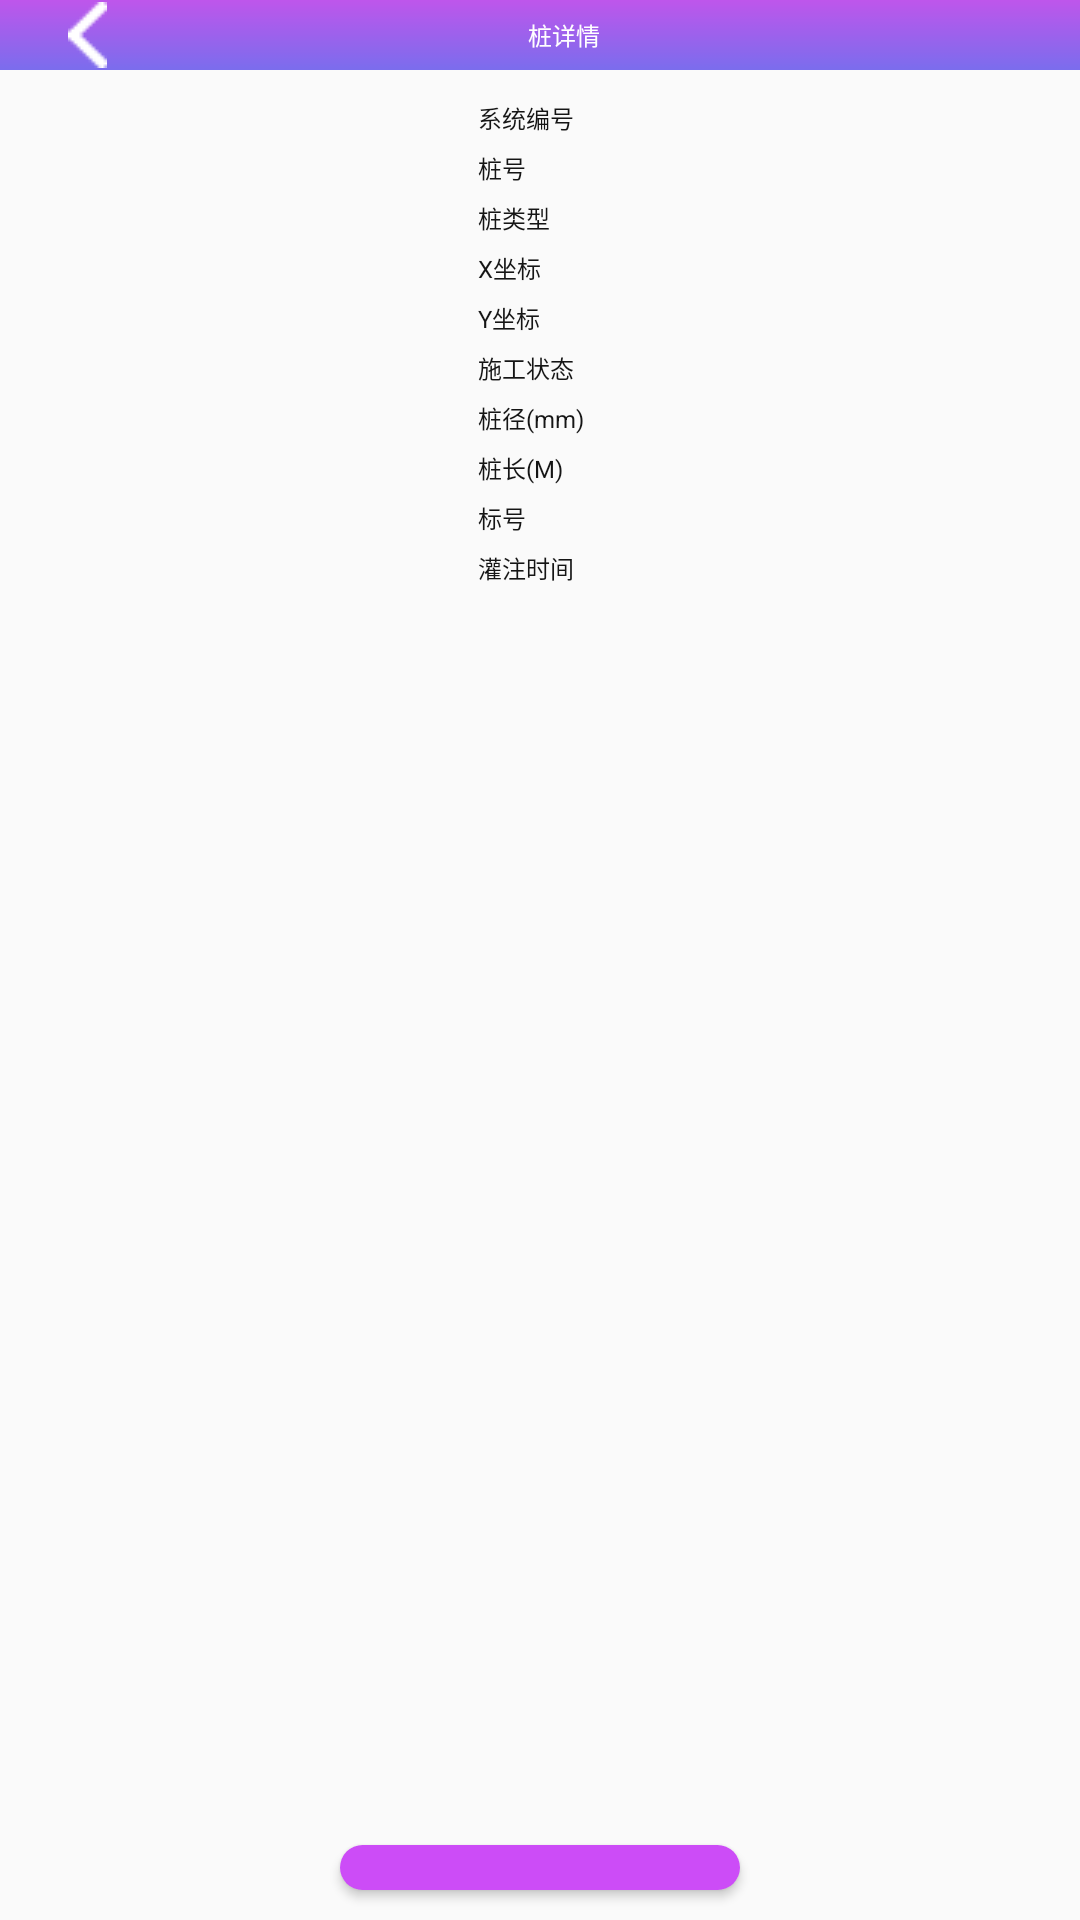

Where to tap for icons on this 1080 × 1920 app screen, as (x=x, y=y):
back: (x=97, y=35)
